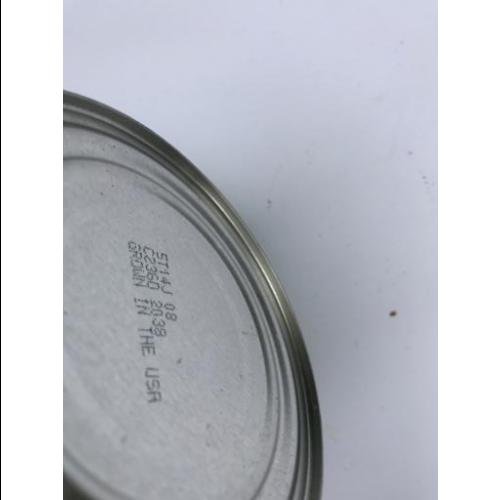metal: (63, 91, 322, 499)
